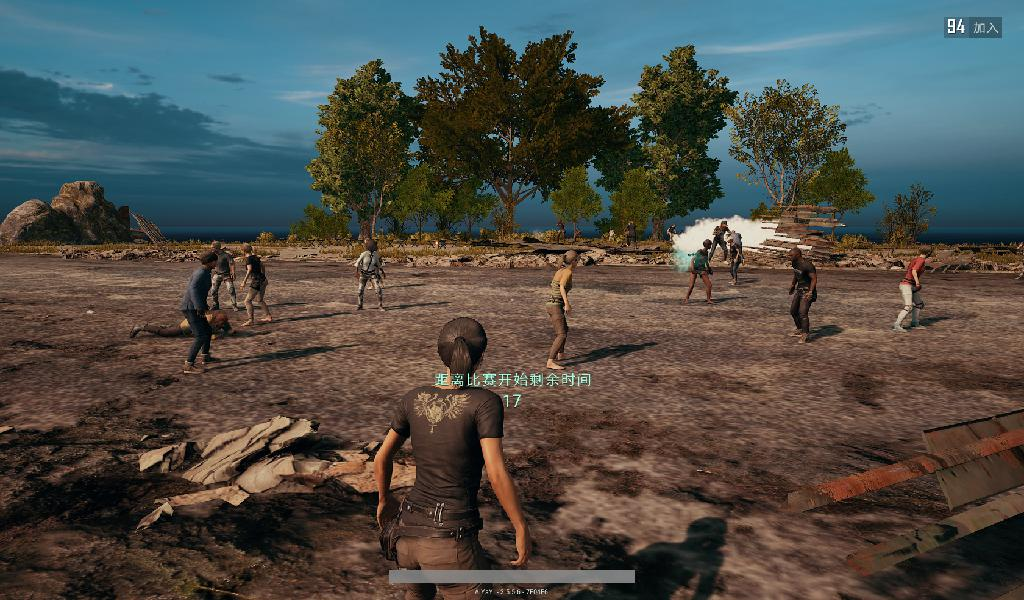Target Person: (375, 315, 531, 600), (179, 250, 221, 373), (544, 250, 580, 371), (784, 246, 821, 345), (896, 242, 936, 333), (236, 242, 272, 328), (350, 238, 385, 313), (207, 239, 238, 313), (684, 238, 715, 304), (725, 236, 745, 287), (708, 221, 731, 264), (623, 217, 639, 249), (663, 222, 677, 244), (555, 217, 565, 244)
